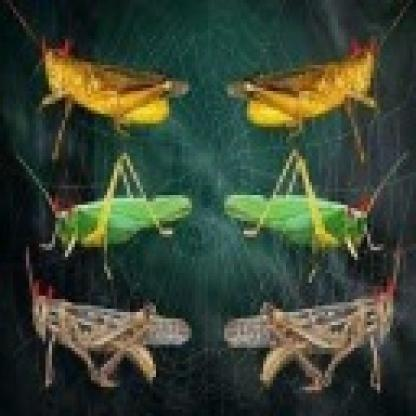grasshopper: (229, 282, 400, 393), (221, 23, 380, 134), (29, 290, 194, 391), (20, 165, 201, 253), (32, 34, 185, 138), (230, 152, 382, 256)
